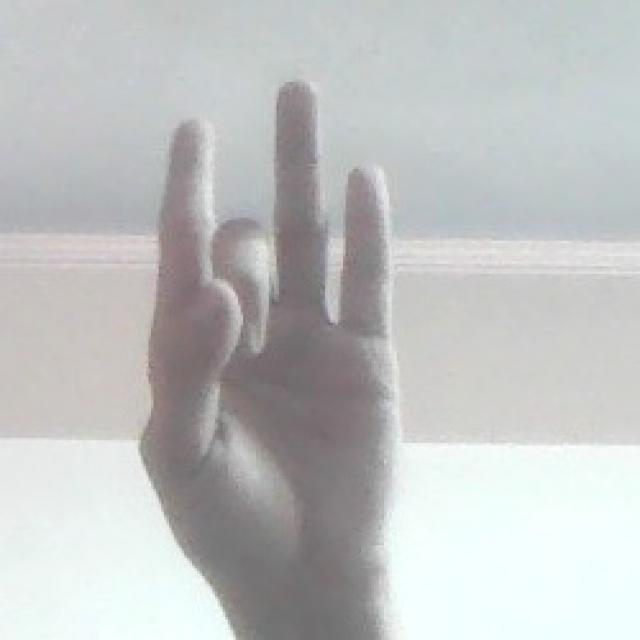Numeric-8: (150, 72, 394, 578)
